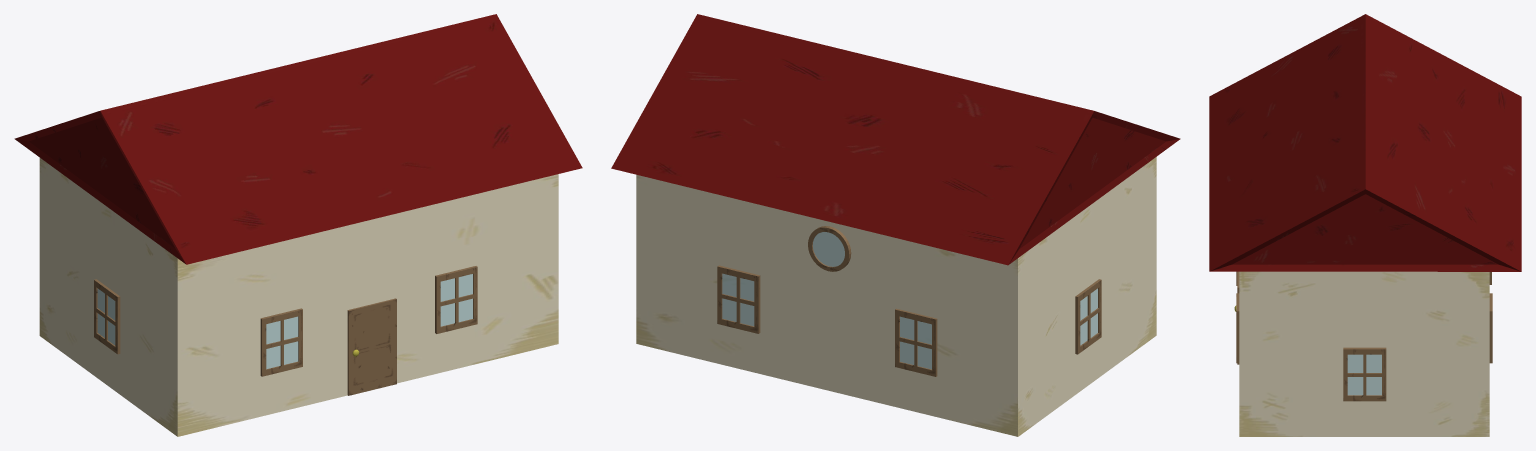
The model's file is maison 2.fbx.
3 views of the same model, side by side, from view 1: azimuth 30°, elevation 25°; view 2: azimuth 150°, elevation 25°; view 3: azimuth 270°, elevation 25° (orthographic). The views are drawn at different scales.
Visible parts, largest first — view 1: base maison.002, toit.002, porte.002, fenetre.012, fenetre.011, fenetre.016; view 2: base maison.002, toit.002, fenetre.013, fenetre.014, fenetre.016, Hulette.002; view 3: toit.002, base maison.002, fenetre.015.
Boxes of the visible parts, x1,y1,x2,y2 form: base maison.002: [39, 158, 558, 436]; toit.002: [14, 14, 582, 264]; porte.002: [347, 298, 396, 395]; fenetre.012: [435, 266, 477, 333]; fenetre.011: [260, 308, 302, 376]; fenetre.016: [94, 279, 120, 354]; base maison.002: [636, 157, 1156, 436]; toit.002: [611, 14, 1180, 265]; fenetre.013: [717, 265, 760, 333]; fenetre.014: [895, 308, 937, 376]; fenetre.016: [1075, 279, 1101, 354]; Hulette.002: [808, 226, 851, 271]; toit.002: [1209, 14, 1521, 271]; base maison.002: [1239, 271, 1489, 436]; fenetre.015: [1343, 347, 1386, 401].
Bounding box in the file's own units: 896 × 599 × 675.
5 materials, 3 textured.
